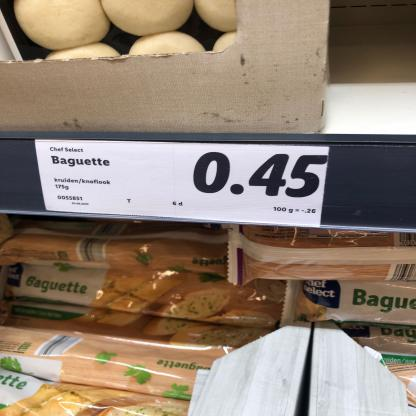prtg: (37, 140, 331, 229)
